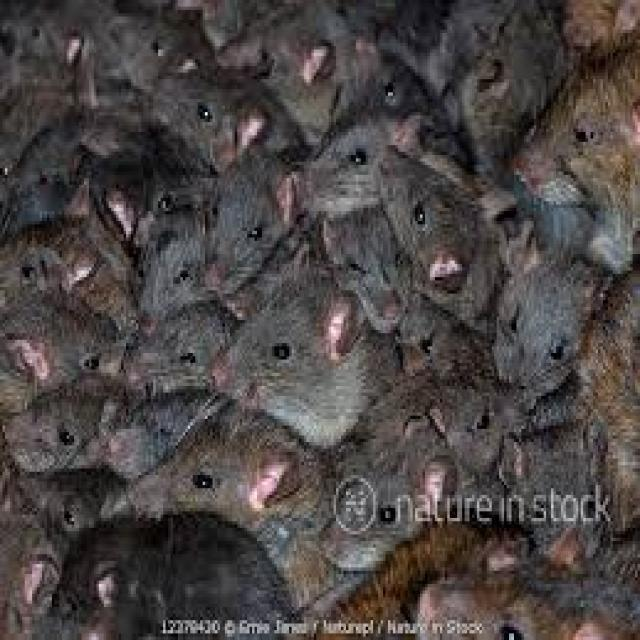Rat: (8, 33, 586, 520)
